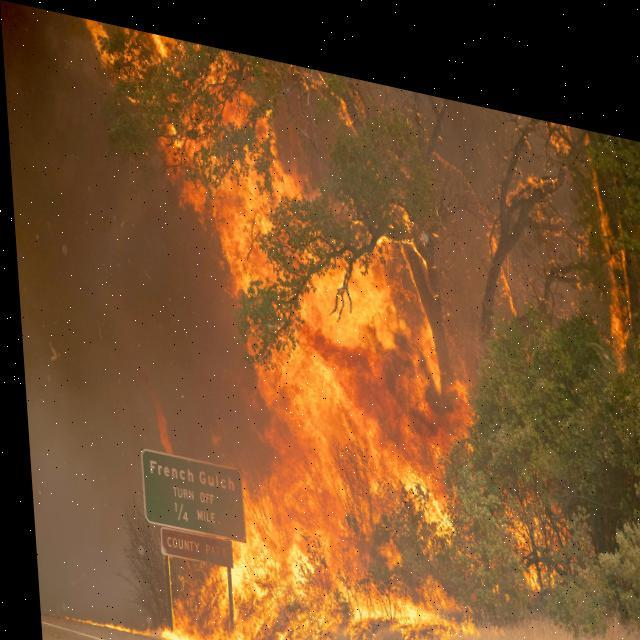Fire: (79, 17, 608, 639)
